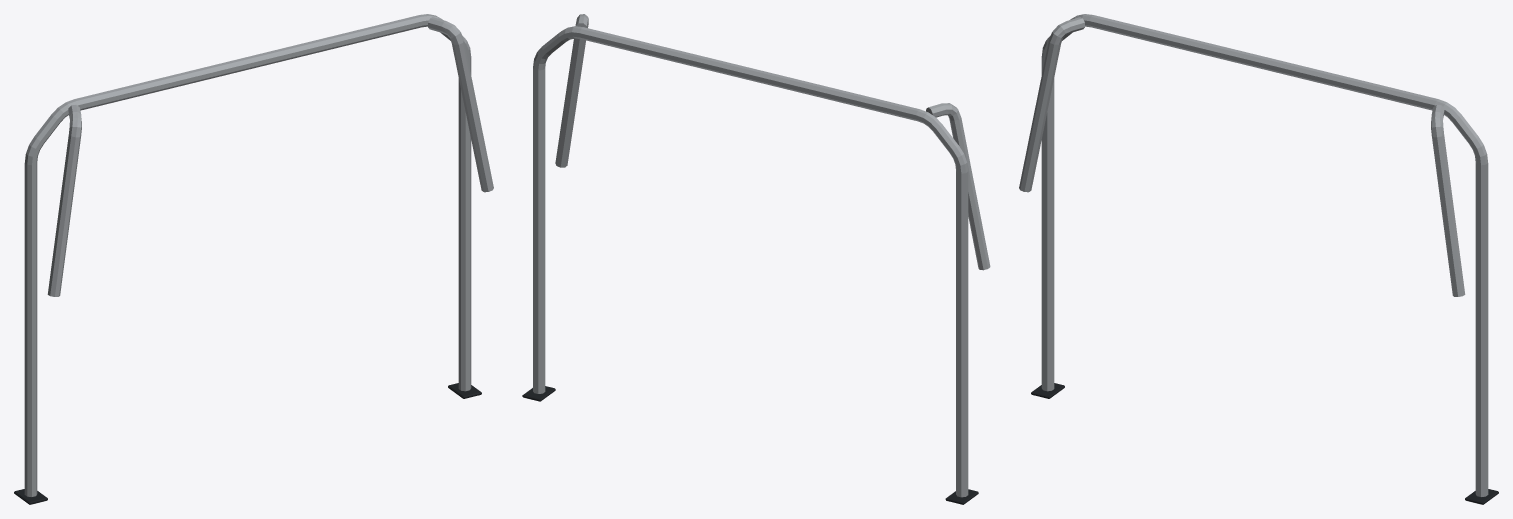
Rendered from ridgeback_4x4.glb.
3 views of the same model, side by side, from view 1: azimuth 30°, elevation 25°; view 2: azimuth 150°, elevation 25°; view 3: azimuth 330°, elevation 25° (orthographic). The views are drawn at different scales.
Visible parts, largest first — view 1: model; view 2: model; view 3: model.
Part boxes in pixels (x1,y1,x2,y2): model: (14, 14, 493, 504); model: (522, 14, 990, 504); model: (1019, 14, 1498, 504).
Size of the model in its own units: 1.65 by 1.35 by 0.2127.
Materials: 2 (1 with a texture image).
